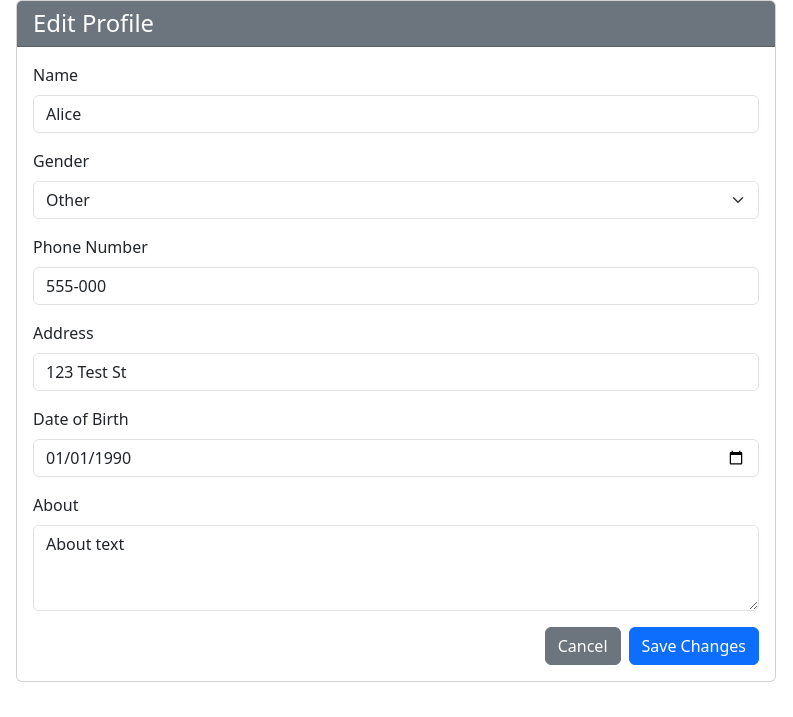
Test: <EditProfileForm /> › renders field errors and a generic form error when API returns validation errors
Note: Change a field to force payload include
Replace the text in the field labelled "Name" with "Al": (396,114) [33, 95, 759, 133]
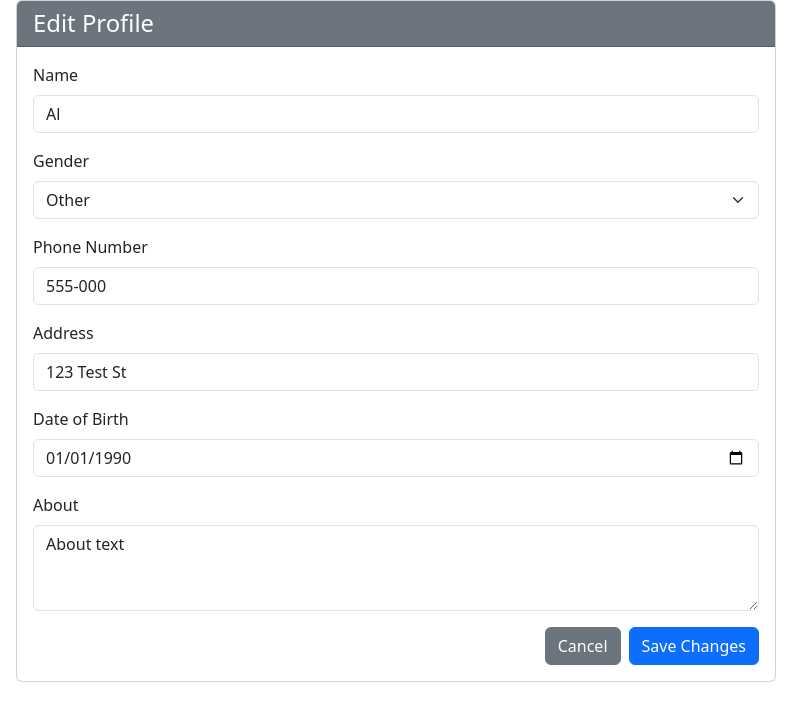
Click the button "Save Changes": (694,646) [628, 627, 759, 665]
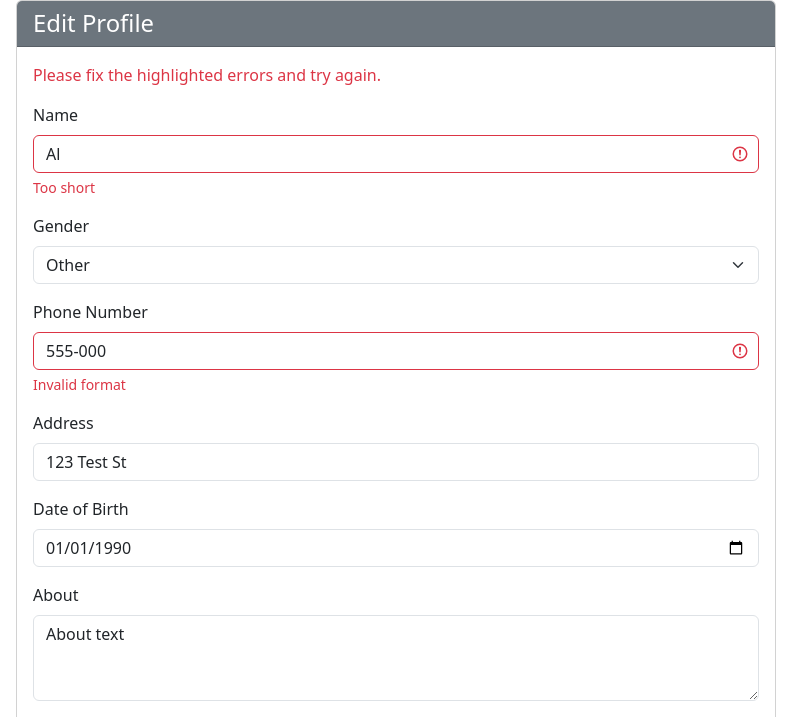
Expected: the text "Please fix the highlighted errors and try again." is shown, [33, 64, 381, 86]
Expected: the text "Too short" is shown, [33, 178, 95, 197]
Expected: the text "Invalid format" is shown, [33, 375, 126, 394]
